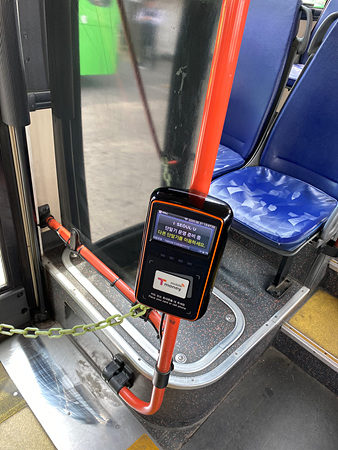terminal: (143, 194, 219, 319)
